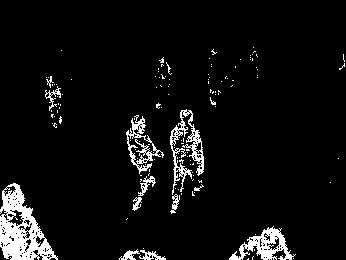person: (1, 181, 57, 260), (124, 114, 163, 210), (170, 109, 205, 215)
